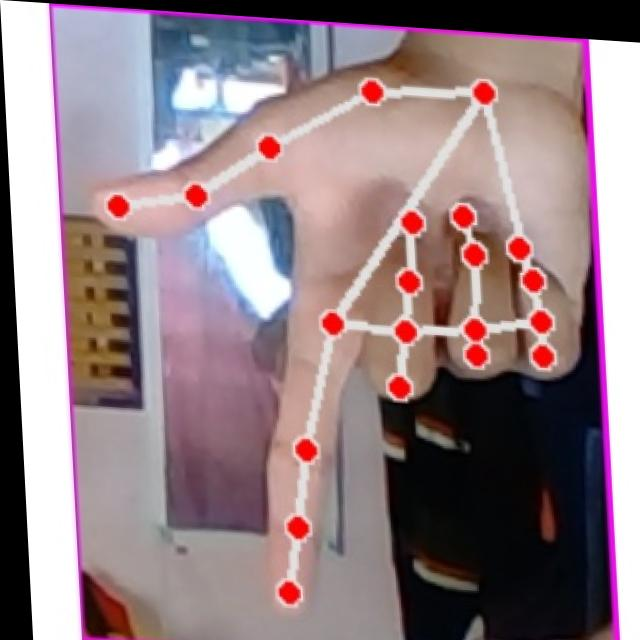L: (75, 27, 604, 640)
